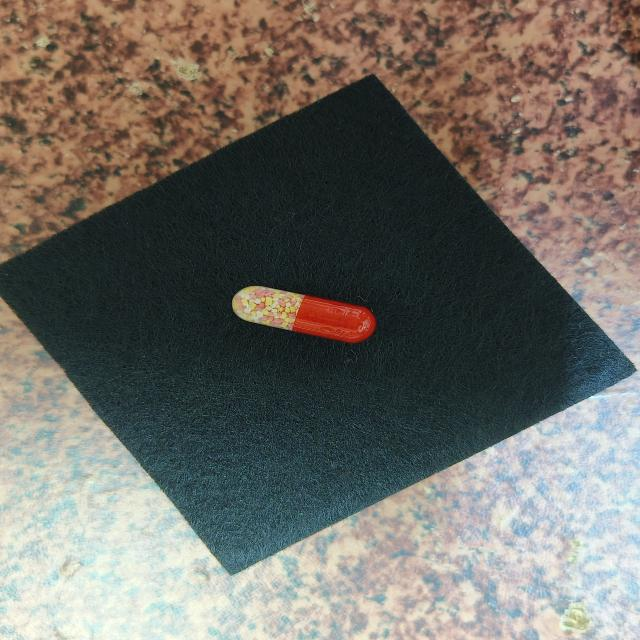Intact Capsule: (232, 286, 376, 343)
